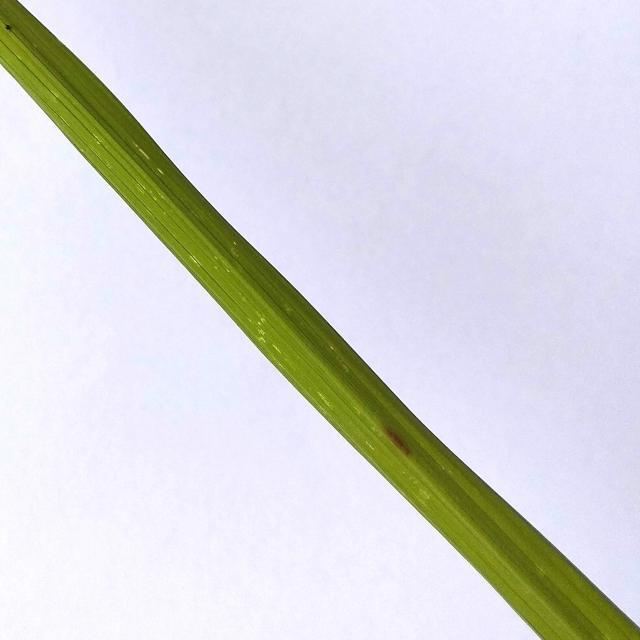brownspots: (380, 416, 424, 466)
